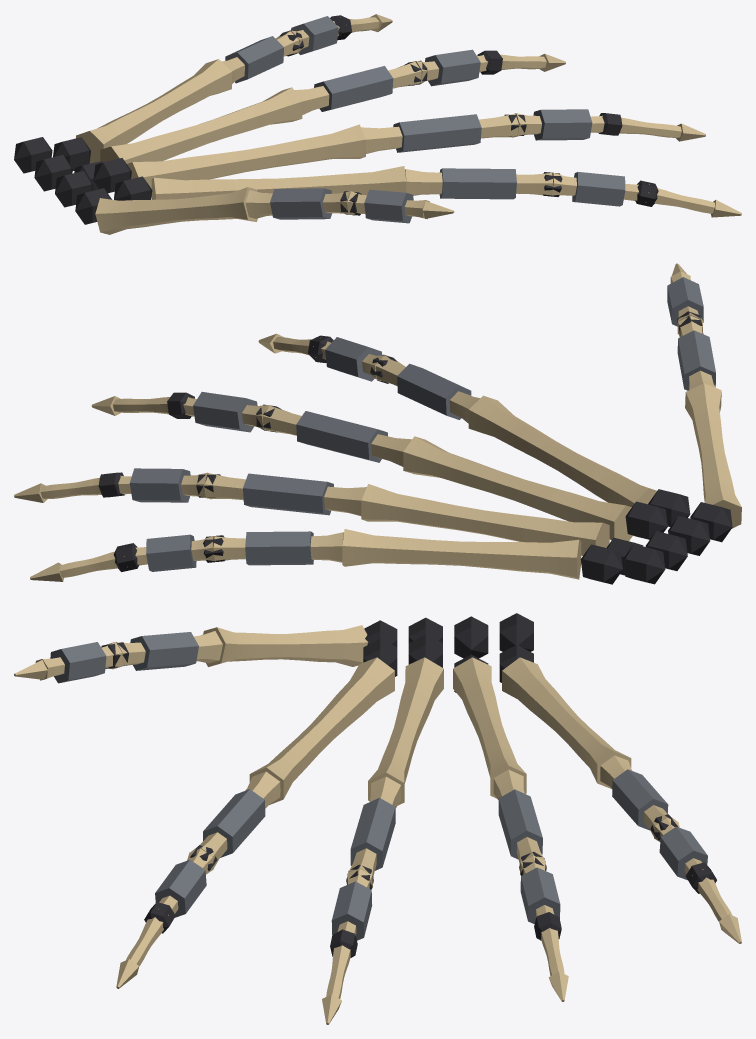
Rendered from cc_hand@1.glb.
3 views of the same model, one above another, from view 1: azimuth 30°, elevation 25°; view 2: azimuth 150°, elevation 25°; view 3: azimuth 270°, elevation 25° (orthographic). The views are drawn at different scales.
Parts seen in each view (by area): view 1: teil0, teil2, teil1; view 2: teil0, teil2, teil1; view 3: teil0, teil2, teil1.
Boxes of the visible parts, box(x1,y1,x2,y2) form: teil0: box(76, 14, 741, 234); teil2: box(225, 16, 625, 223); teil1: box(14, 15, 658, 224); teil0: box(14, 263, 741, 581); teil2: box(129, 277, 715, 571); teil1: box(98, 311, 732, 584); teil0: box(14, 625, 741, 1024); teil2: box(50, 632, 707, 940); teil1: box(101, 613, 716, 957).
Size of the model in its own units: 0.5098 by 0.1069 by 0.4752.
